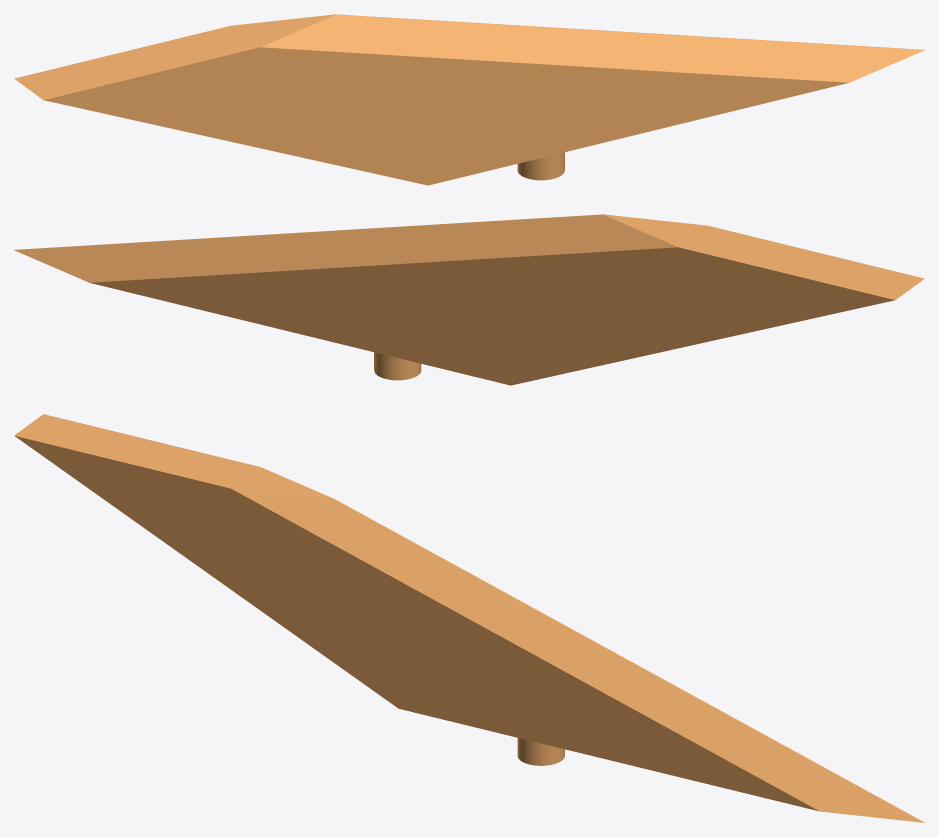
The model's file is fin.glb.
The picture shows the model from 3 angles, top to bottom: view 1: azimuth 30°, elevation 25°; view 2: azimuth 150°, elevation 25°; view 3: azimuth 330°, elevation 25°; orthographic projection.
Visible parts, largest first — view 1: ControlFin; view 2: ControlFin; view 3: ControlFin.
Boxes of the visible parts, box(x1,y1,x2,y2) form: ControlFin: box(14, 14, 924, 185); ControlFin: box(14, 214, 924, 385); ControlFin: box(14, 414, 924, 822).
Size of the model in its own units: 175 by 38.49 by 10.
